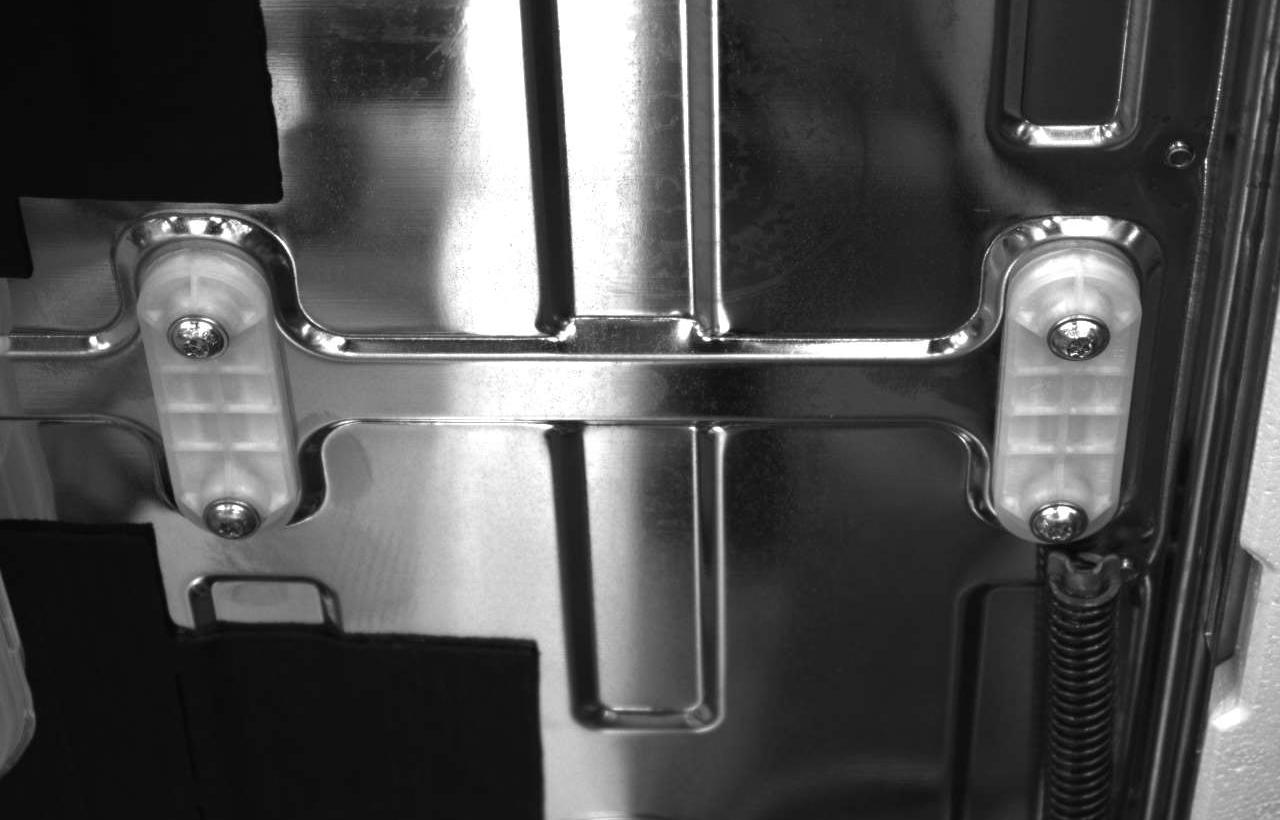vida-ok: (159, 305, 230, 372), (1046, 302, 1113, 369), (199, 485, 264, 544), (1027, 491, 1093, 549)
